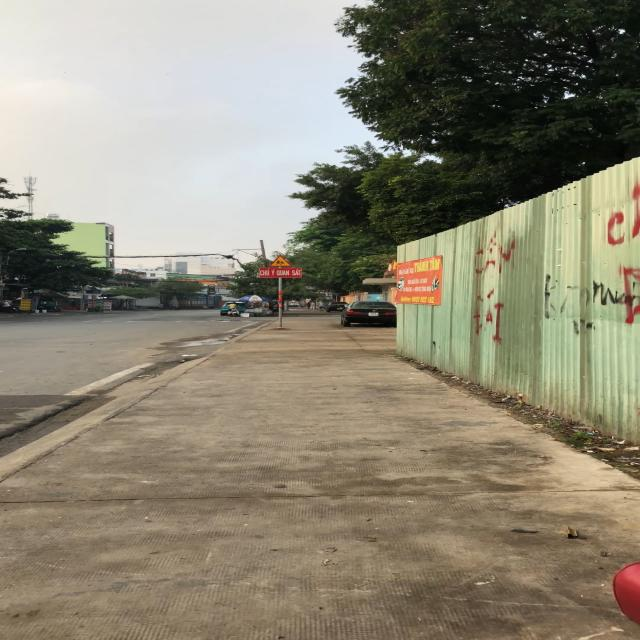Bien bao tre em: (268, 254, 292, 268)
